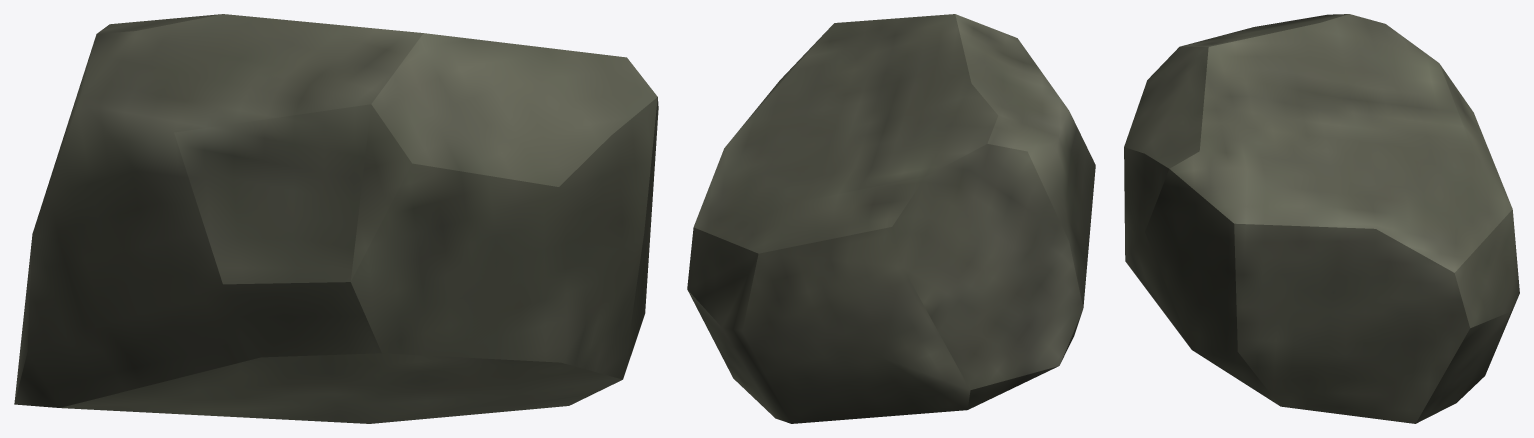
Rendered from Rock_04.fbx.
The picture shows the model from 3 angles, left to right: view 1: azimuth 30°, elevation 25°; view 2: azimuth 150°, elevation 25°; view 3: azimuth 270°, elevation 25°; orthographic projection. The views are drawn at different scales.
Parts seen in each view (by area): view 1: Rock_04; view 2: Rock_04; view 3: Rock_04.
Boxes of the visible parts, <box> form: Rock_04: <box>14,14,658,423</box>; Rock_04: <box>687,14,1095,423</box>; Rock_04: <box>1124,14,1519,423</box>.
Bounding box in the file's own units: 118 × 105 × 114.
Materials: 1 (1 with a texture image).
